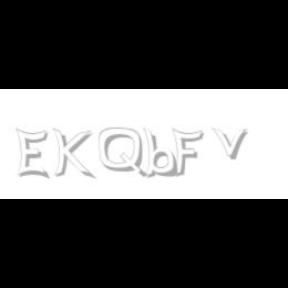E: (15, 128, 48, 180)
F: (171, 128, 203, 178)
K: (52, 128, 92, 180)
Q: (99, 128, 145, 178)
b: (143, 128, 181, 178)
v: (212, 128, 252, 160)
